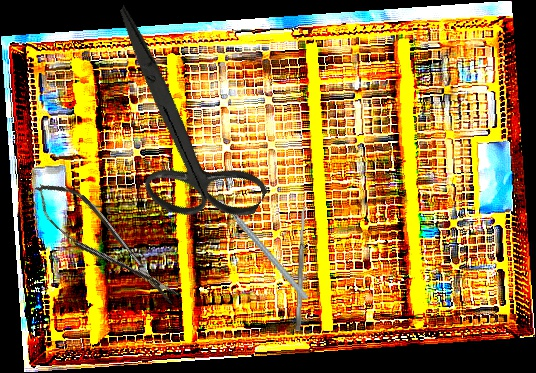Chopper: (211, 180, 309, 318)
Iris Scissors: (44, 2, 313, 251)
Micro Scissor: (25, 168, 187, 320)
Spatula Surgical: (294, 205, 308, 332)
